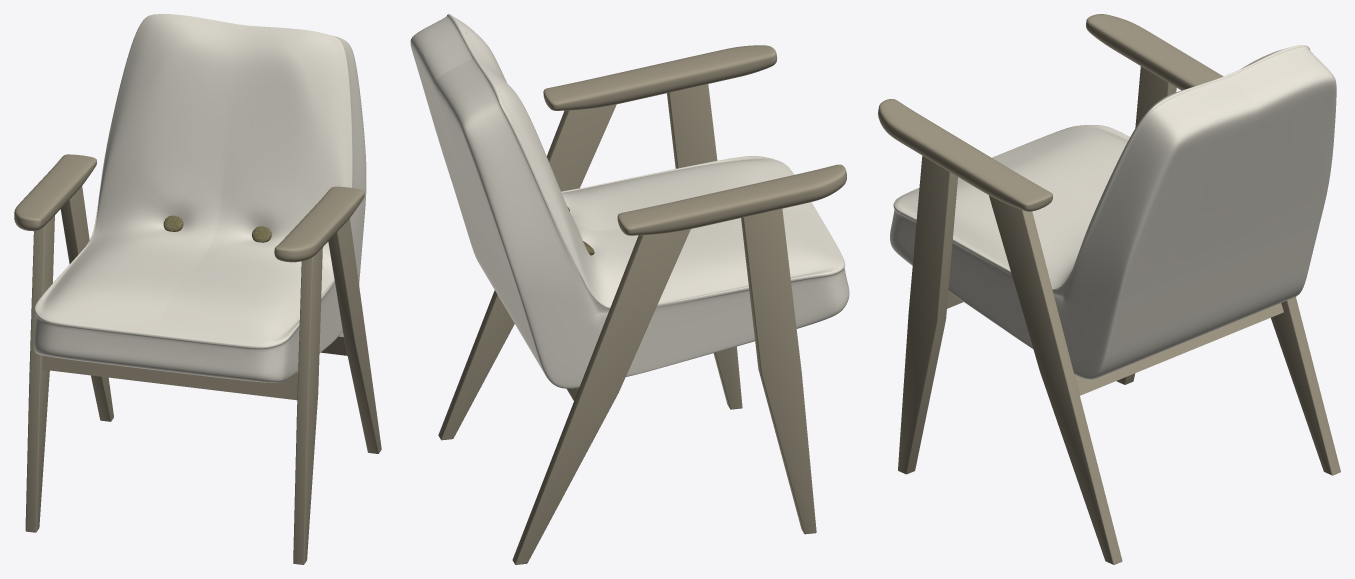
The picture shows the model from 3 angles, left to right: view 1: azimuth 30°, elevation 25°; view 2: azimuth 150°, elevation 25°; view 3: azimuth 270°, elevation 25°; orthographic projection. The views are drawn at different scales.
Parts seen in each view (by area): view 1: Cube.005_3, Cube_0, Cube.002_2, Cube.001_1; view 2: Cube.005_3, Cube_0; view 3: Cube.005_3, Cube_0, Cube.002_2.
Part boxes in pixels (x1,y1,x2,y2): Cube.005_3: (33, 14, 366, 382); Cube_0: (14, 154, 381, 564); Cube.002_2: (42, 332, 347, 400); Cube.001_1: (163, 215, 271, 242); Cube.005_3: (410, 14, 849, 388); Cube_0: (438, 45, 846, 564); Cube.005_3: (890, 45, 1336, 379); Cube_0: (878, 14, 1340, 564); Cube.002_2: (947, 291, 1283, 395).
Size of the model in its own units: 0.7178 by 0.7651 by 0.717.
3 materials, 1 textured.
